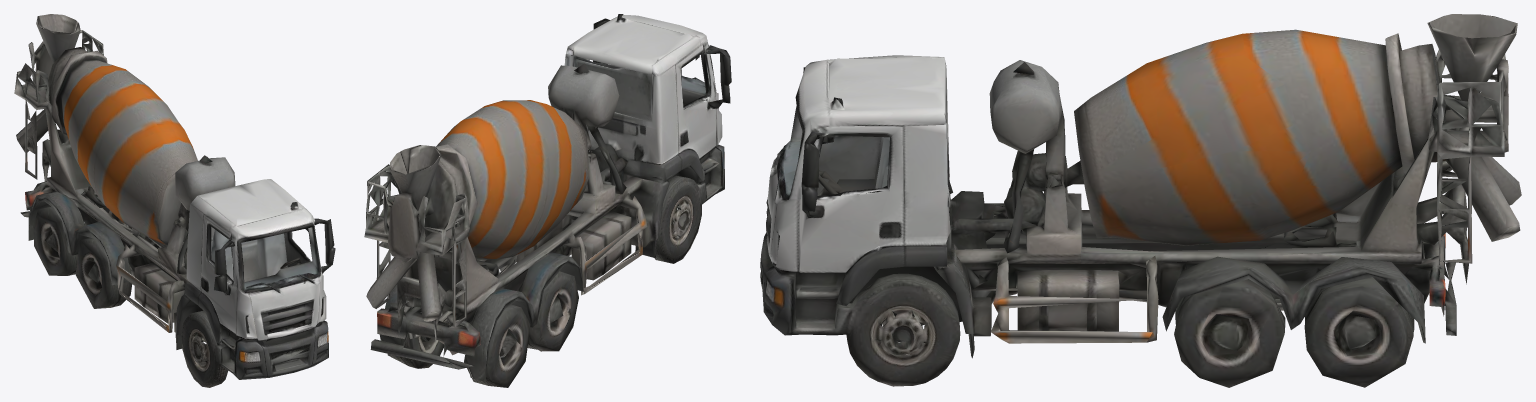
Rendered from teluk-mixer-truck.glb.
3 renders of one model, left to right at view 1: azimuth 30°, elevation 25°; view 2: azimuth 150°, elevation 25°; view 3: azimuth 270°, elevation 25°, orthographic. The views are drawn at different scales.
Parts seen in each view (by area): view 1: teluk-mixer-truck; view 2: teluk-mixer-truck; view 3: teluk-mixer-truck.
Boxes of the visible parts, x1,y1,x2,y2 form: teluk-mixer-truck: [14, 14, 335, 387]; teluk-mixer-truck: [364, 14, 731, 387]; teluk-mixer-truck: [760, 14, 1521, 387].
Bounding box in the file's own units: 2.5 × 4.32 × 9.
Materials: 1 (1 with a texture image).
